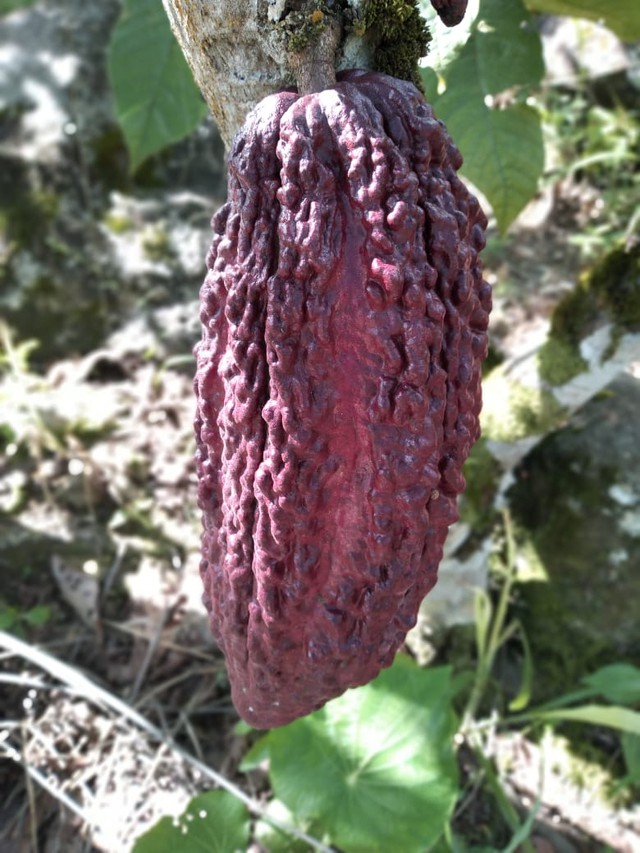Health: (186, 53, 504, 740)
